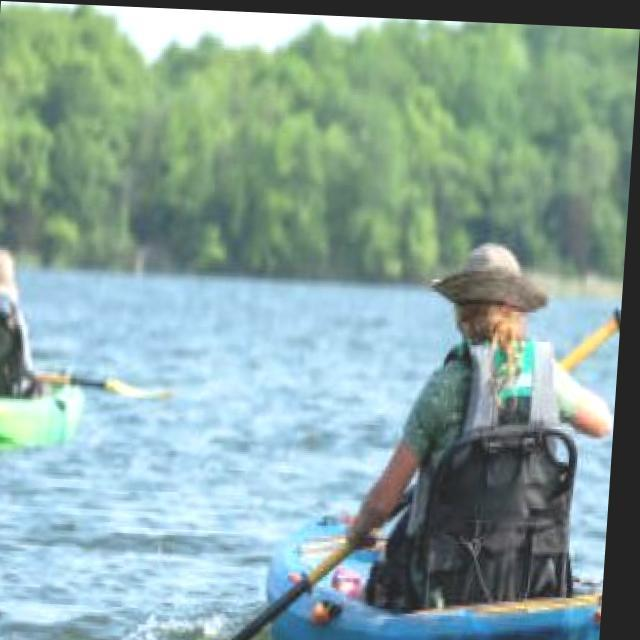kayak: (281, 570, 610, 640), (0, 383, 89, 443), (277, 521, 338, 591)
